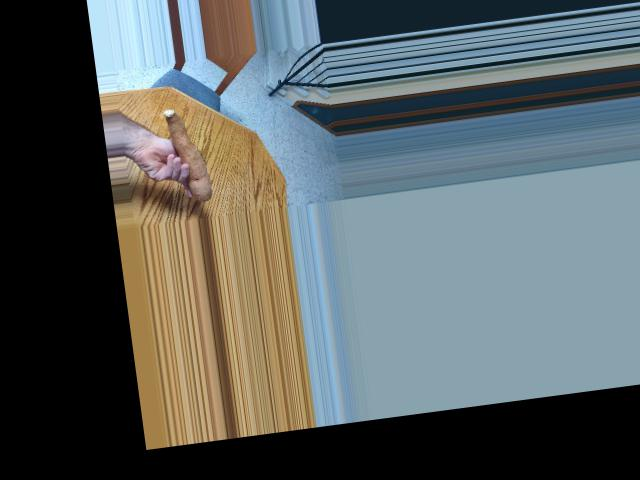sweet_potato: (162, 103, 216, 203)
